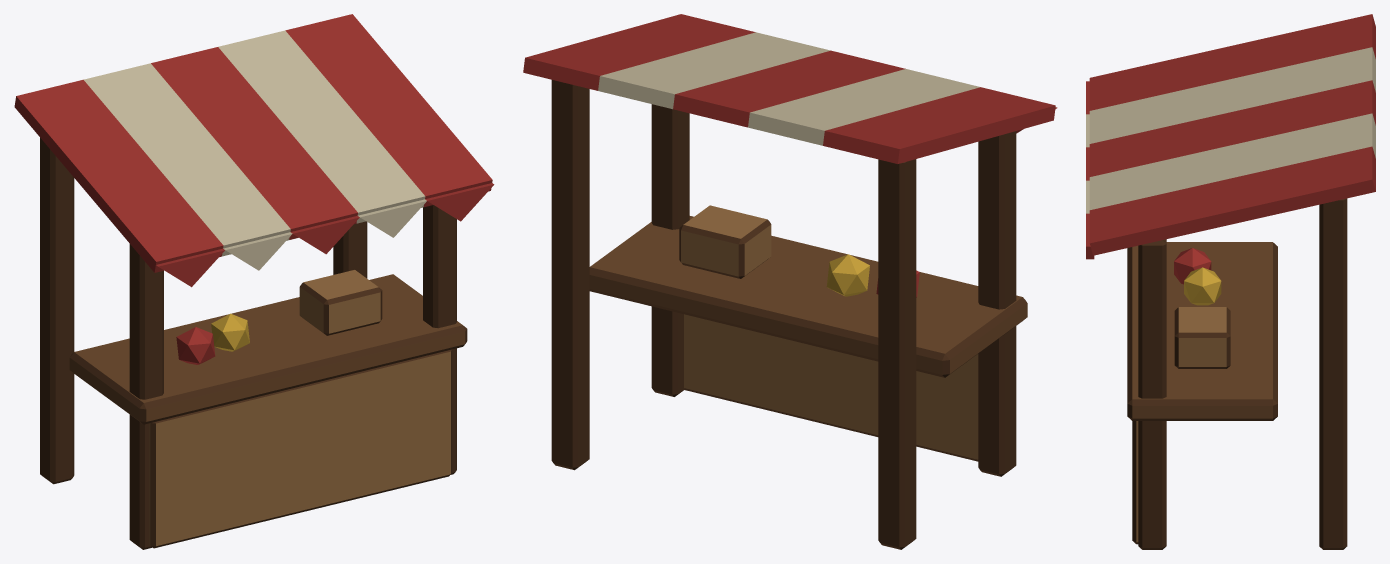
Rendered from market_stall.glb.
3 renders of one model, left to right at view 1: azimuth 30°, elevation 25°; view 2: azimuth 150°, elevation 25°; view 3: azimuth 270°, elevation 25°, orthographic. The views are drawn at different scales.
Parts seen in each view (by area): view 1: market_stall; view 2: market_stall; view 3: market_stall.
Boxes of the visible parts, <box> form: market_stall: <box>14,14,494,549</box>; market_stall: <box>523,14,1057,549</box>; market_stall: <box>1086,14,1375,549</box>.
Bounding box in the file's own units: 1.95 × 2.07 × 1.44.
